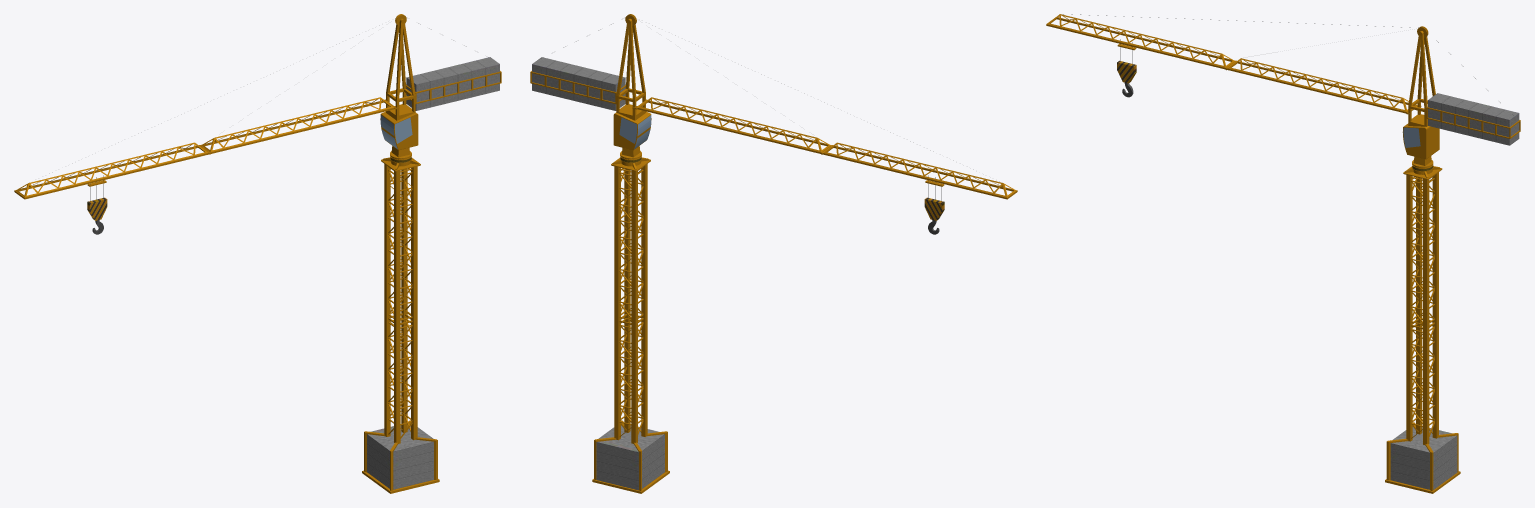
The picture shows the model from 3 angles, left to right: view 1: azimuth 30°, elevation 25°; view 2: azimuth 150°, elevation 25°; view 3: azimuth 330°, elevation 25°; orthographic projection. The views are drawn at different scales.
Visible parts, largest first — view 1: DN110_CanTruc1.005; view 2: DN110_CanTruc1.005; view 3: DN110_CanTruc1.005.
Part boxes in pixels (x1=…): DN110_CanTruc1.005: x1=14, y1=14, x2=501, y2=493; DN110_CanTruc1.005: x1=530, y1=14, x2=1017, y2=493; DN110_CanTruc1.005: x1=1046, y1=14, x2=1520, y2=493.
Size of the model in its own units: 63.78 by 59.19 by 6.58.
Materials: 1 (1 with a texture image).
